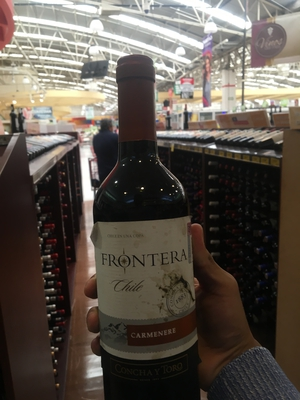frontera carmenere: (84, 59, 212, 400)
